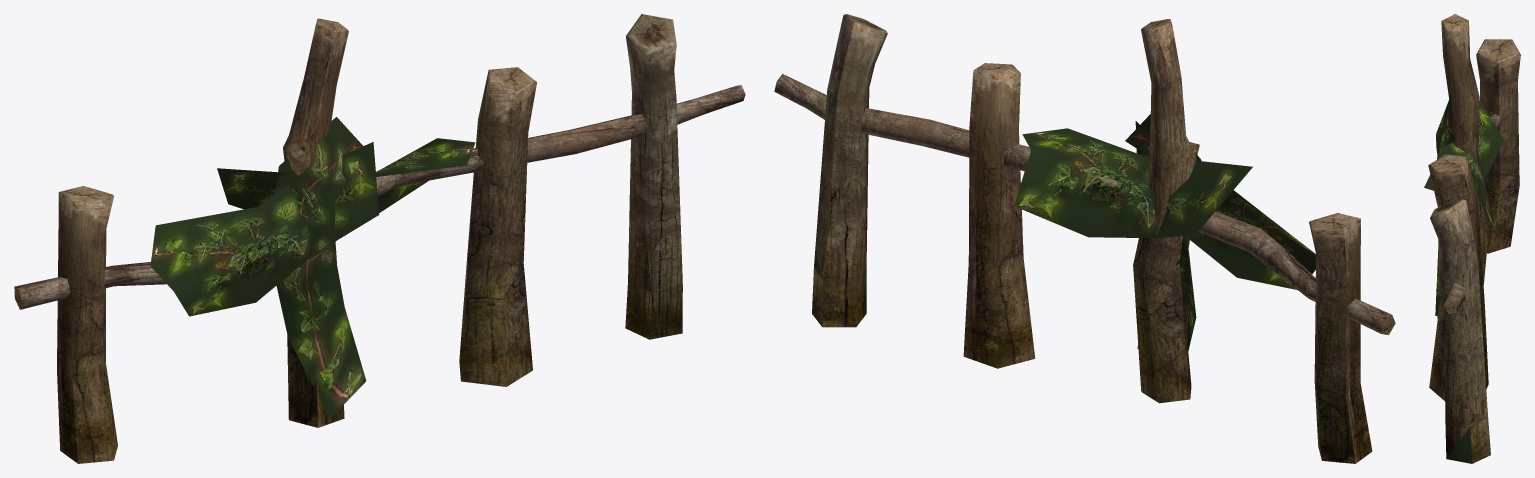
The model's file is Fence04.FBX.
The picture shows the model from 3 angles, left to right: view 1: azimuth 30°, elevation 25°; view 2: azimuth 150°, elevation 25°; view 3: azimuth 270°, elevation 25°; orthographic projection. The views are drawn at different scales.
Visible parts, largest first — view 1: LV_TurtleLake_Lakevillage_fence03_SM_EYE; view 2: LV_TurtleLake_Lakevillage_fence03_SM_EYE; view 3: LV_TurtleLake_Lakevillage_fence03_SM_EYE.
Boxes of the visible parts, left/top/right/bottom form: LV_TurtleLake_Lakevillage_fence03_SM_EYE: left=14, top=14, right=745, bottom=463; LV_TurtleLake_Lakevillage_fence03_SM_EYE: left=774, top=14, right=1395, bottom=463; LV_TurtleLake_Lakevillage_fence03_SM_EYE: left=1424, top=14, right=1520, bottom=463.
Bounding box in the file's own units: 62.98 × 34.32 × 9.8.
